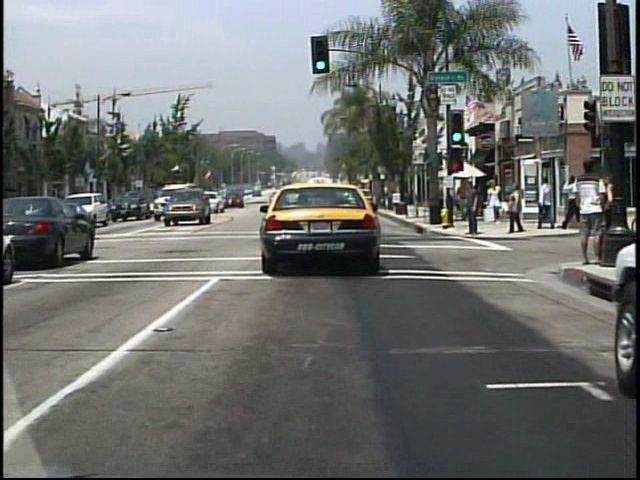person: (573, 154, 608, 265), (463, 182, 481, 238), (539, 174, 556, 230), (509, 182, 527, 233), (456, 179, 475, 226), (489, 179, 505, 225)
